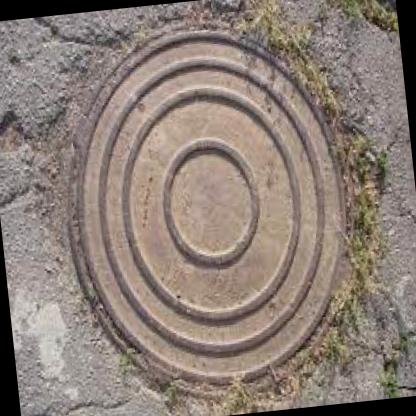manholes: (29, 0, 400, 416)
